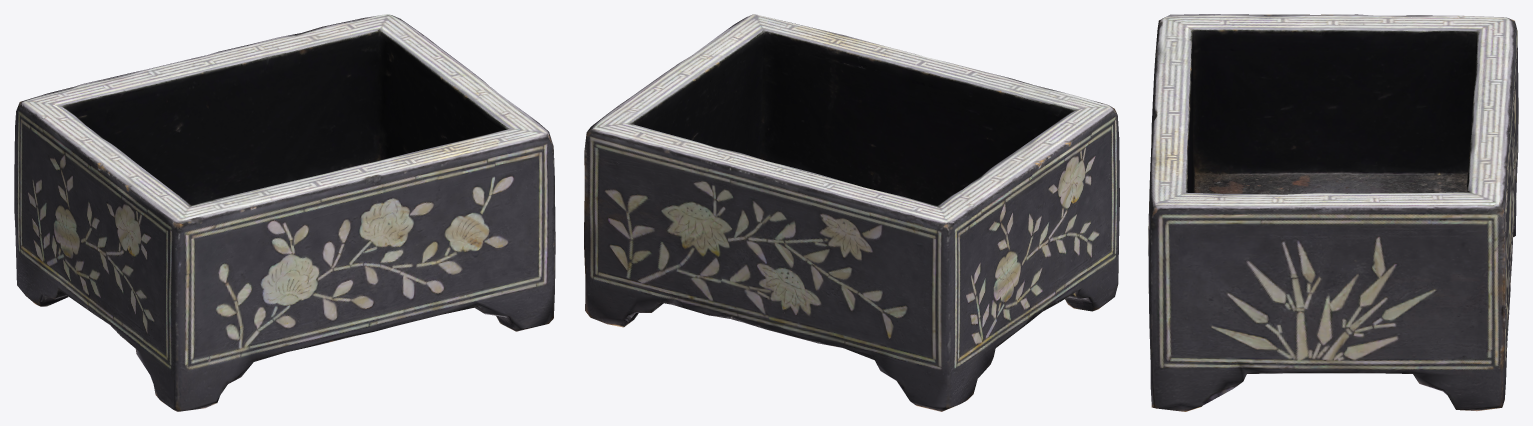
Rendered from SM_Lacquered_Box.fbx.
3 renders of one model, left to right at view 1: azimuth 30°, elevation 25°; view 2: azimuth 150°, elevation 25°; view 3: azimuth 270°, elevation 25°, orthographic. The views are drawn at different scales.
Parts seen in each view (by area): view 1: KCDF_2022_prop_Lacquered_Box_with_Mother_of_Pearl_Mesh; view 2: KCDF_2022_prop_Lacquered_Box_with_Mother_of_Pearl_Mesh; view 3: KCDF_2022_prop_Lacquered_Box_with_Mother_of_Pearl_Mesh.
Part boxes in pixels (x1=…): KCDF_2022_prop_Lacquered_Box_with_Mother_of_Pearl_Mesh: x1=14, y1=14, x2=555, y2=411; KCDF_2022_prop_Lacquered_Box_with_Mother_of_Pearl_Mesh: x1=584, y1=14, x2=1119, y2=411; KCDF_2022_prop_Lacquered_Box_with_Mother_of_Pearl_Mesh: x1=1148, y1=14, x2=1518, y2=411.
Bounding box in the file's own units: 30.77 × 15.1 × 24.17.
1 material, 1 textured.
